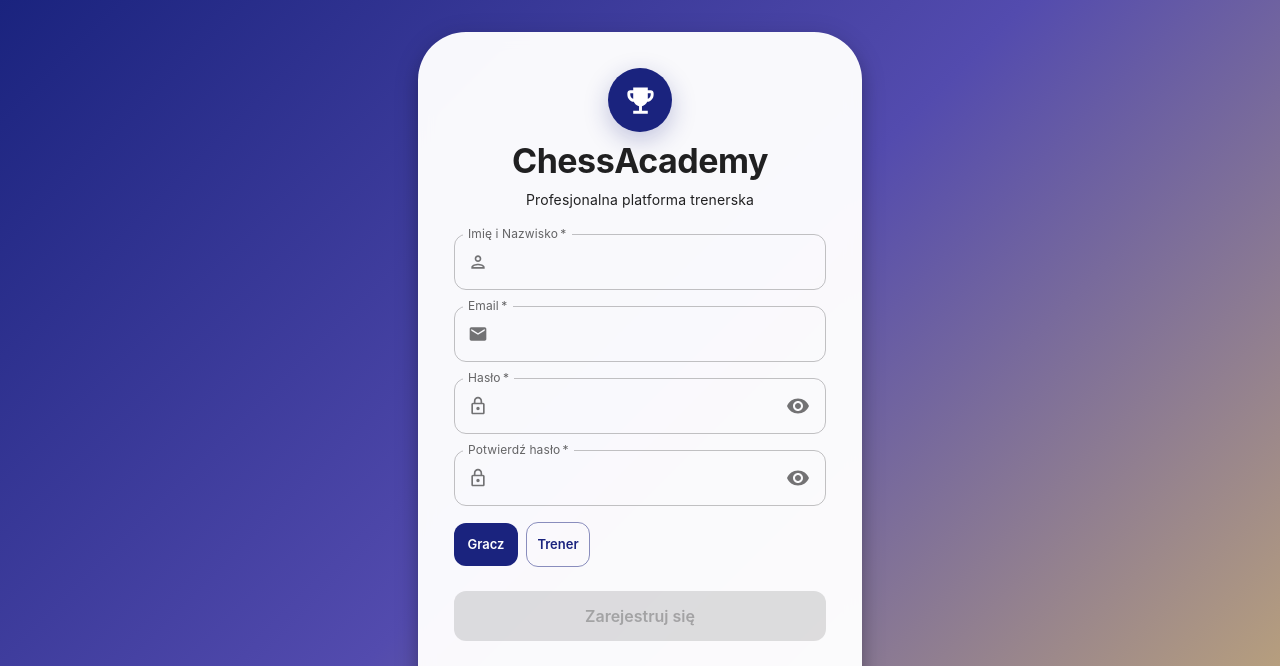
Test: RegisterView › shows error for too short password
This screenshot has width=1280, height=666.
In the password field labelled "Hasło *": (634, 406) [496, 378, 773, 434], type "Ab1!"
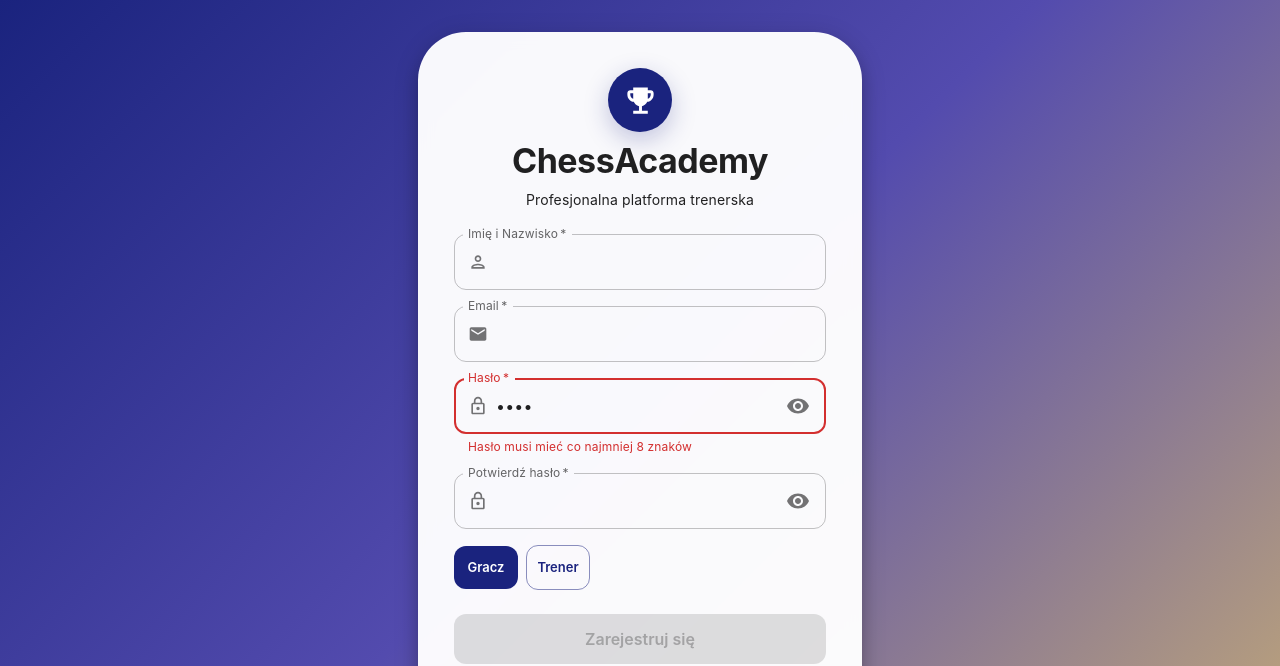
Expected: the text "Hasło musi mieć co najmniej 8 znaków" is shown, [468, 439, 692, 454]
